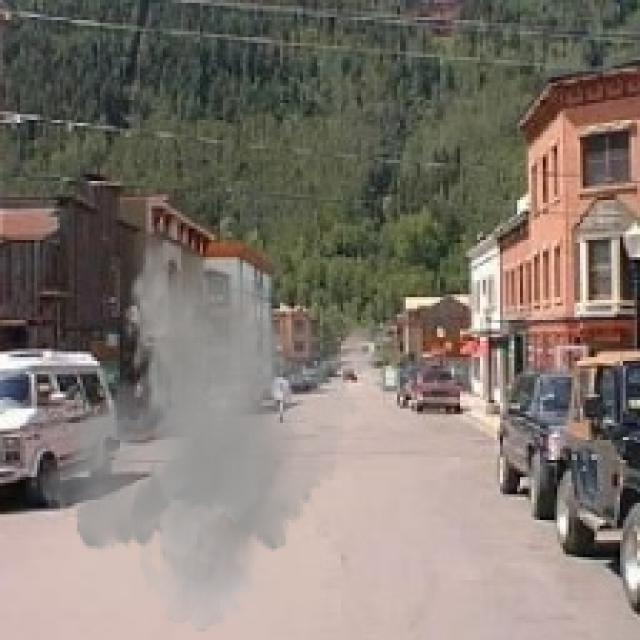smoke: (28, 240, 403, 631)
